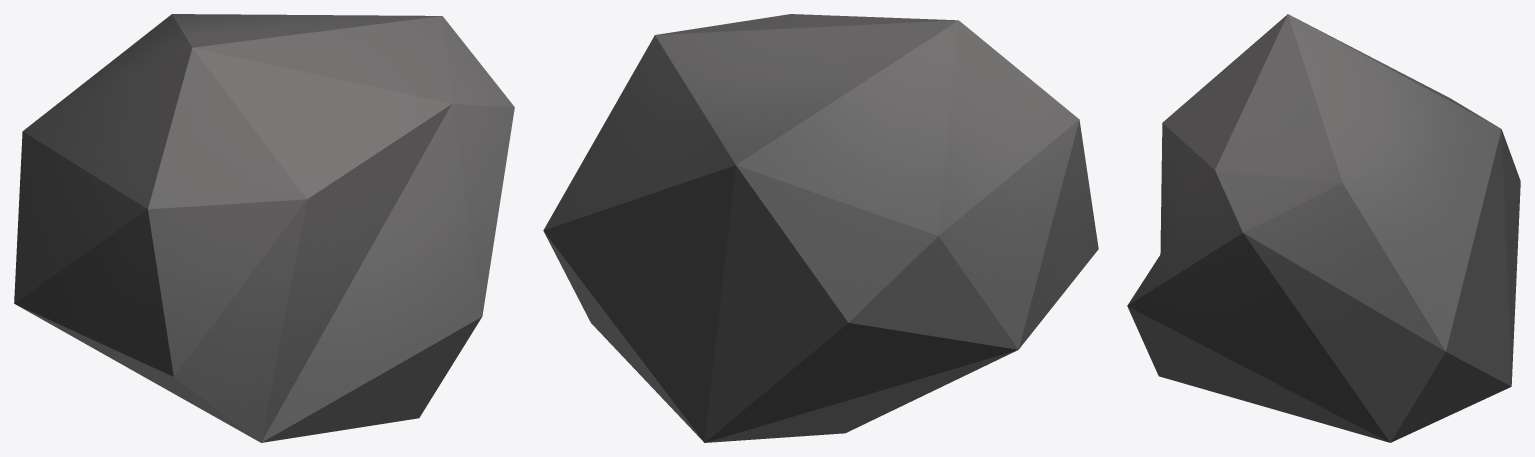
Rendered from rock2.gltf.
The picture shows the model from 3 angles, left to right: view 1: azimuth 30°, elevation 25°; view 2: azimuth 150°, elevation 25°; view 3: azimuth 270°, elevation 25°; orthographic projection. The views are drawn at different scales.
Parts seen in each view (by area): view 1: Rock2_low; view 2: Rock2_low; view 3: Rock2_low.
Part boxes in pixels (box(x1,y1,x2,y2)): Rock2_low: box(14, 14, 514, 442); Rock2_low: box(543, 14, 1098, 442); Rock2_low: box(1127, 14, 1520, 442).
Bounding box in the file's own units: 4.67 × 4.16 × 4.08.
1 material, 1 textured.
